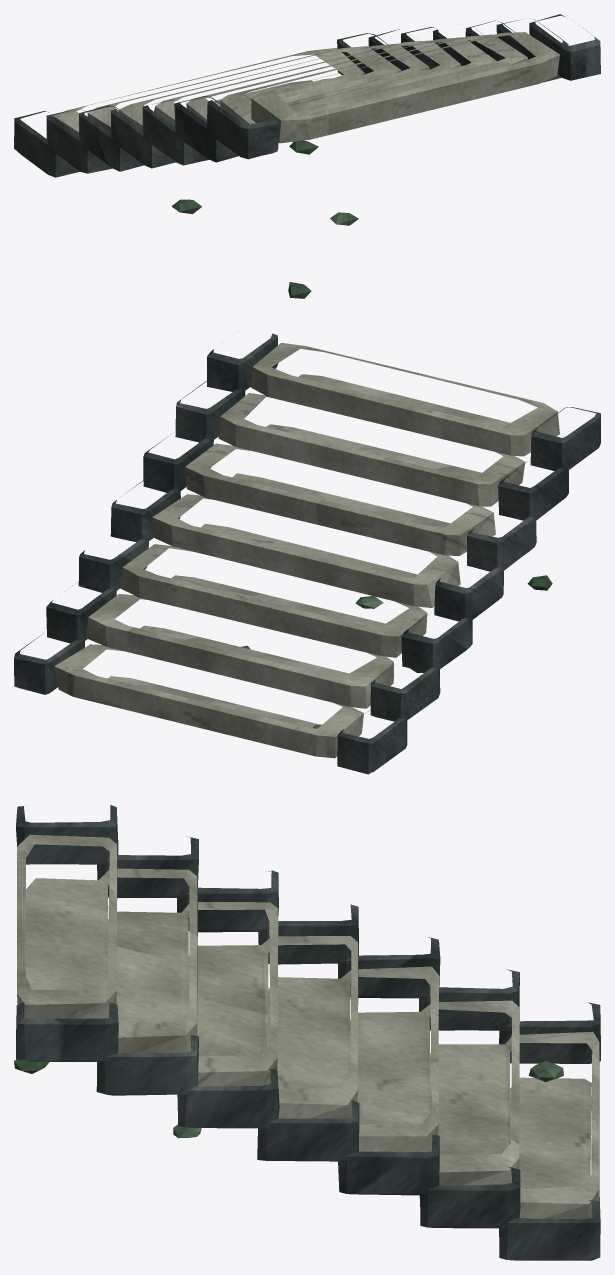
File: 0359_stairs_09.glb
3 renders of one model, top to bottom at view 1: azimuth 30°, elevation 25°; view 2: azimuth 150°, elevation 25°; view 3: azimuth 270°, elevation 25°, orthographic. The views are drawn at different scales.
Visible parts, largest first — view 1: stone_light, stone_dark, moss; view 2: stone_light, stone_dark, moss; view 3: stone_light, stone_dark, moss.
Boxes of the visible parts, <box> form: stone_light: <box>53,32,559,143</box>; stone_dark: <box>14,14,600,177</box>; moss: <box>171,140,358,298</box>; stone_light: <box>54,343,559,758</box>; stone_dark: <box>14,333,600,774</box>; moss: <box>241,575,552,728</box>; stone_light: <box>17,834,599,1219</box>; stone_dark: <box>16,805,600,1260</box>; moss: <box>14,1060,563,1138</box>.
Bounding box in the file's own units: 2.84 × 1.47 × 3.21.
3 materials, 3 textured.
